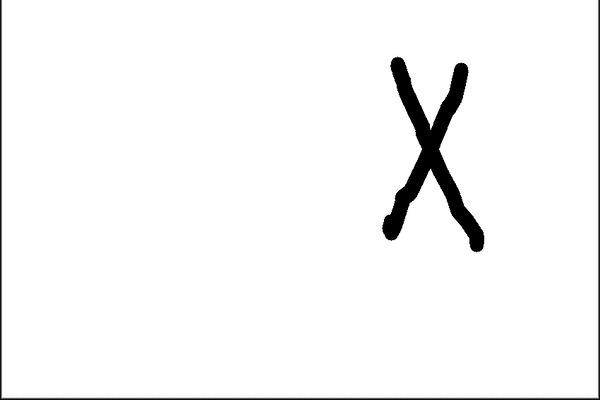X: (360, 44, 537, 287)
